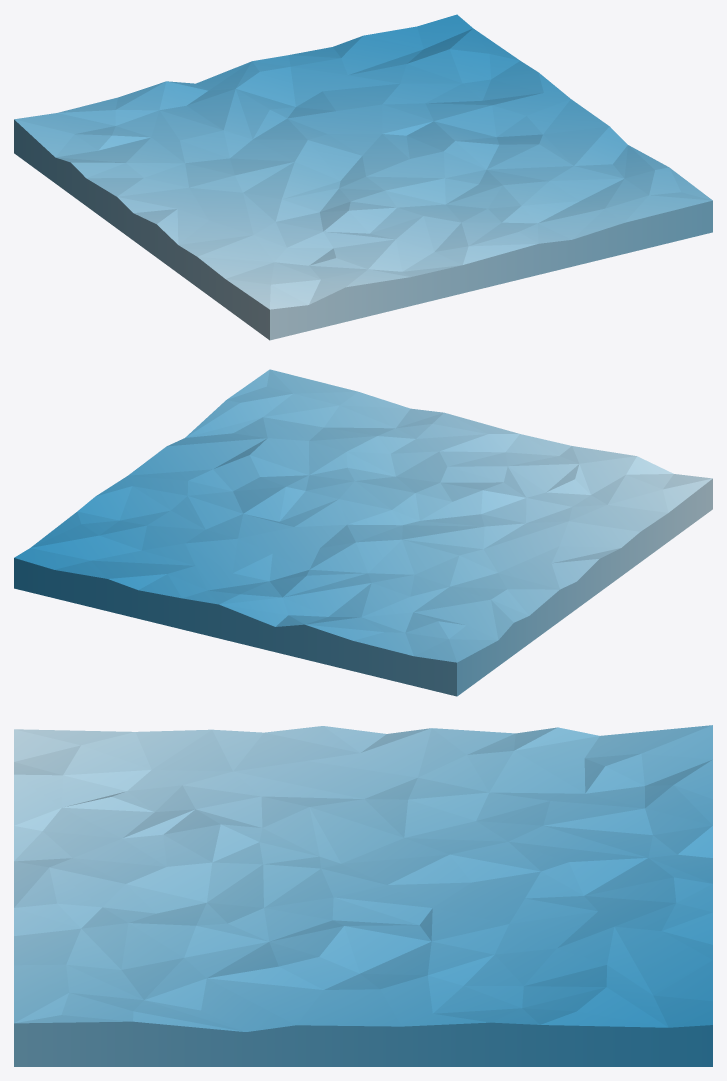
The model's file is water-location-mysterious-place.glb.
3 views of the same model, one above another, from view 1: azimuth 30°, elevation 25°; view 2: azimuth 150°, elevation 25°; view 3: azimuth 270°, elevation 25° (orthographic). The views are drawn at different scales.
Parts seen in each view (by area): view 1: water location mysterious place; view 2: water location mysterious place; view 3: water location mysterious place.
Boxes of the visible parts, box(x1,y1,x2,y2) form: water location mysterious place: box(14, 14, 712, 340); water location mysterious place: box(14, 369, 712, 696); water location mysterious place: box(14, 725, 712, 1066).
Size of the model in its own units: 44 by 3.49 by 44.
Materials: 1 (1 with a texture image).
